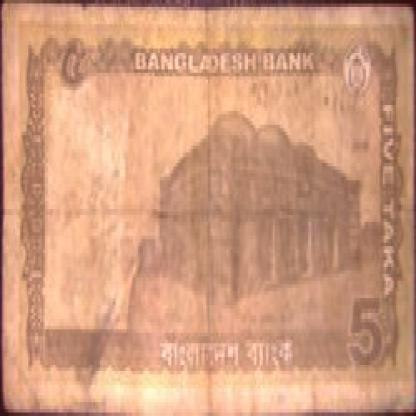Five Taka: (374, 86, 401, 288), (344, 281, 390, 381), (55, 31, 88, 97)
